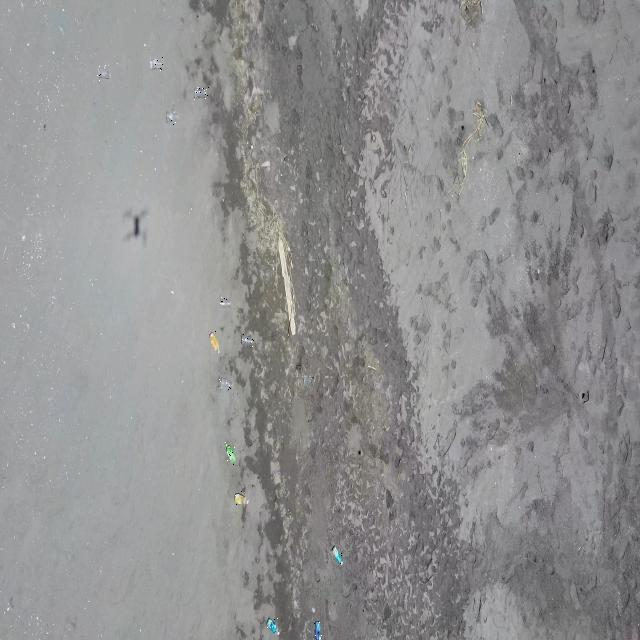plastic-bottle: (225, 442, 238, 466), (209, 331, 220, 354), (266, 616, 280, 634), (332, 546, 343, 567), (235, 491, 249, 507), (314, 621, 322, 640)
takeaway-cup: (193, 86, 210, 101), (97, 65, 111, 81), (166, 110, 179, 125), (150, 57, 163, 71), (219, 296, 232, 310), (240, 334, 254, 347), (219, 378, 232, 390)
